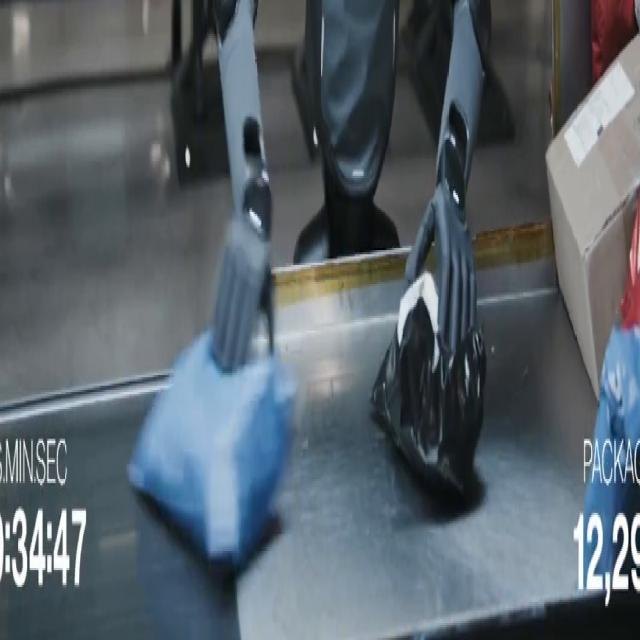package: (128, 331, 296, 565), (547, 37, 639, 396), (371, 272, 486, 498), (582, 202, 639, 578), (583, 327, 639, 580), (591, 0, 638, 82), (621, 200, 639, 328)
